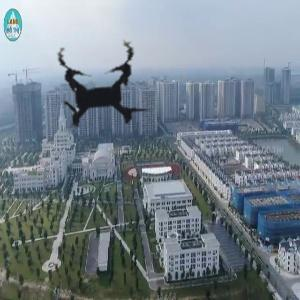drone: (14, 5, 185, 176)
